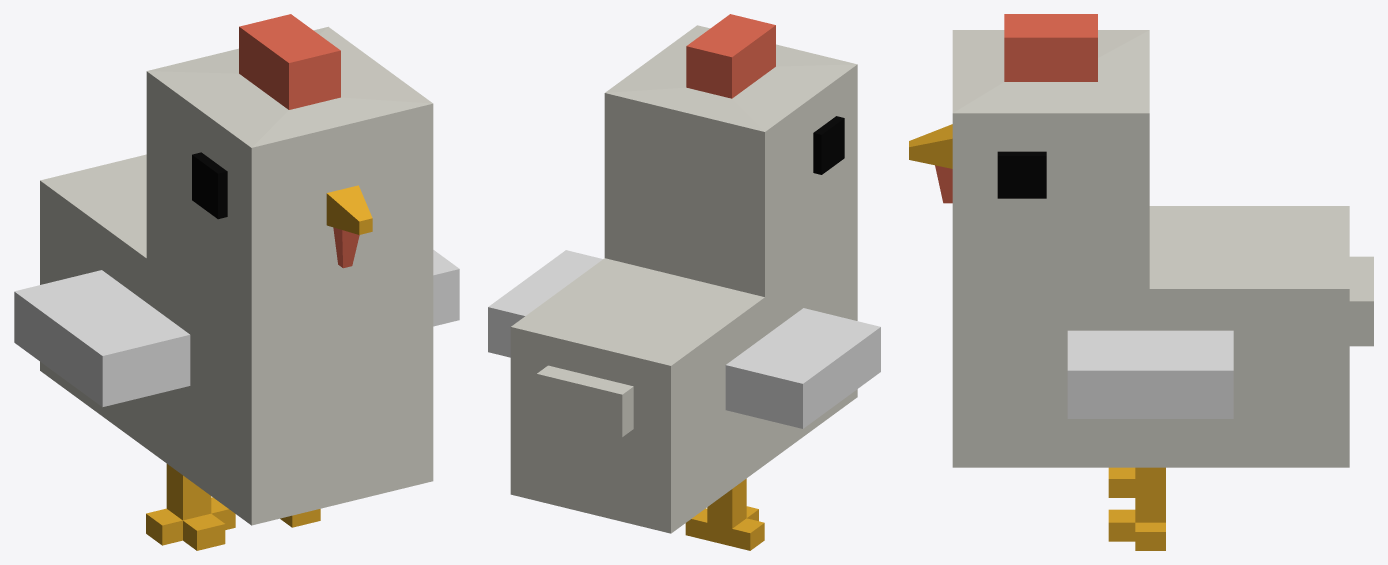
File: Graham-Rush-Chicken.glb
3 renders of one model, left to right at view 1: azimuth 30°, elevation 25°; view 2: azimuth 150°, elevation 25°; view 3: azimuth 270°, elevation 25°, orthographic. The views are drawn at different scales.
Visible parts, largest first — view 1: Cube.001, Cube.002, Cube.008, Cube.004, Cube.006, Cube.003, Cube.007; view 2: Cube.001, Cube.002, Cube.003, Cube.008, Cube.004; view 3: Cube.001, Cube.003, Cube.009, Cube.005, Cube.006, Cube.008.
Boxes of the visible parts, box(x1,y1,x2,y2) form: Cube.001: box(40, 14, 433, 525); Cube.002: box(14, 270, 190, 407); Cube.008: box(146, 464, 235, 550); Cube.004: box(192, 152, 227, 219); Cube.006: box(326, 185, 372, 234); Cube.003: box(433, 250, 459, 326); Cube.007: box(333, 227, 359, 268); Cube.001: box(510, 14, 857, 533); Cube.002: box(725, 308, 880, 428); Cube.003: box(488, 250, 602, 357); Cube.008: box(685, 478, 764, 550); Cube.004: box(813, 116, 844, 174); Cube.001: box(952, 14, 1373, 467); Cube.003: box(1067, 330, 1233, 418); Cube.009: box(1108, 467, 1165, 550); Cube.005: box(997, 151, 1046, 198); Cube.006: box(909, 124, 952, 168); Cube.008: box(1108, 467, 1135, 497).
Bounding box in the file's own units: 0.6146 × 0.8542 × 0.738.
